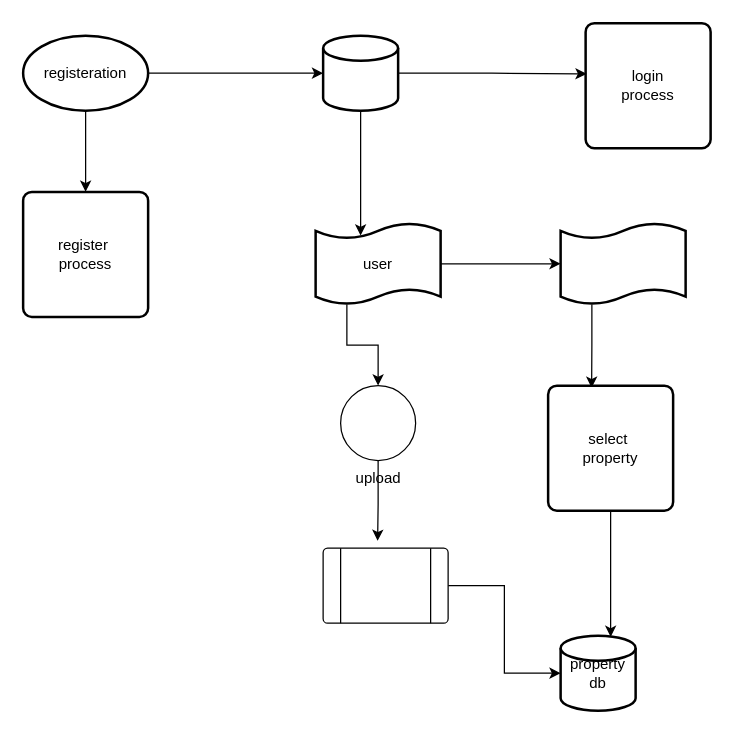
Some shapes in this 733 by 733 pixel diagram are drawn without their labels. Here are the shapes that lost their labels. From the top down, the box of each, then its label:
(321, 34, 399, 111): user db
(559, 221, 686, 305): search property
(322, 547, 448, 623): post property
